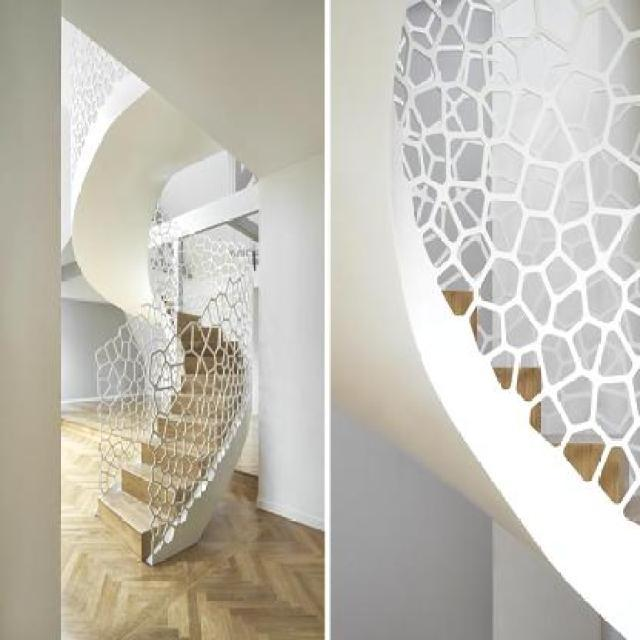stair: (113, 245, 247, 564)
